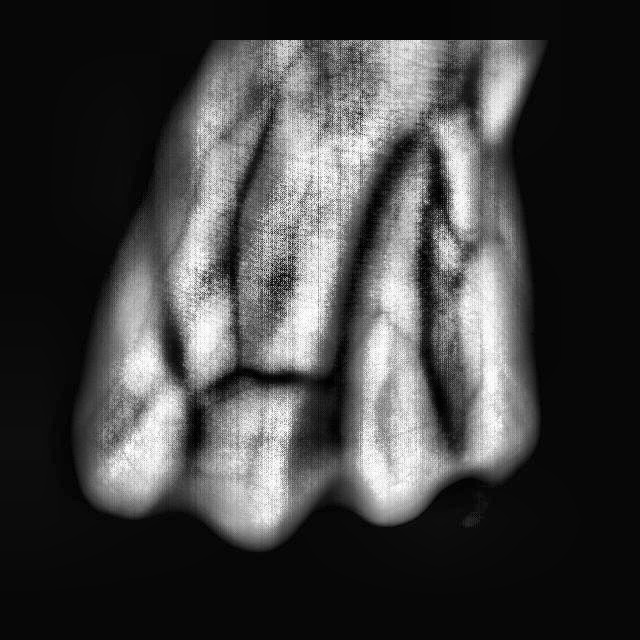Vein: (316, 133, 417, 369)
